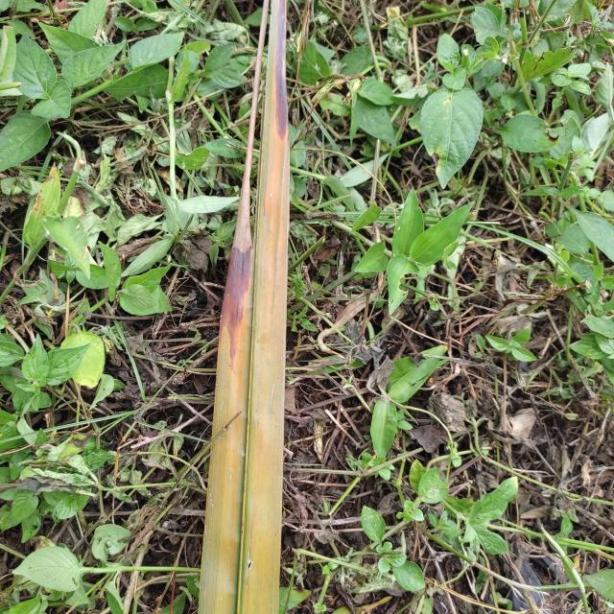Megnesium: (198, 0, 283, 614)
